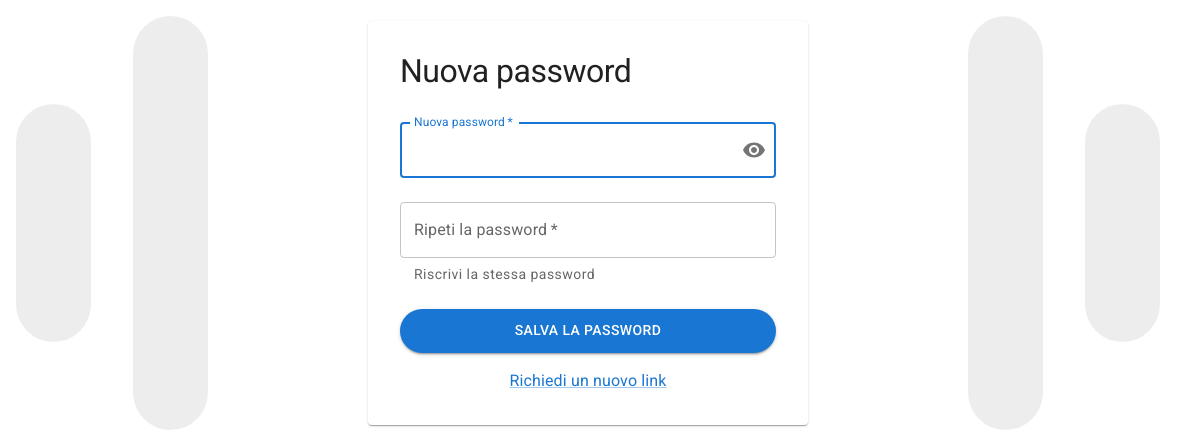
Scenario: ResetPassword: conferma con riga riservata › l'occhio è nel primo campo: clic e Tab non sono un'uscita dal gruppo, e mostra entrambi i campi
Type "Nuova!Pass2026" into the password field labelled "Nuova password *" at [563, 150], box left=400, top=122, right=726, bottom=178
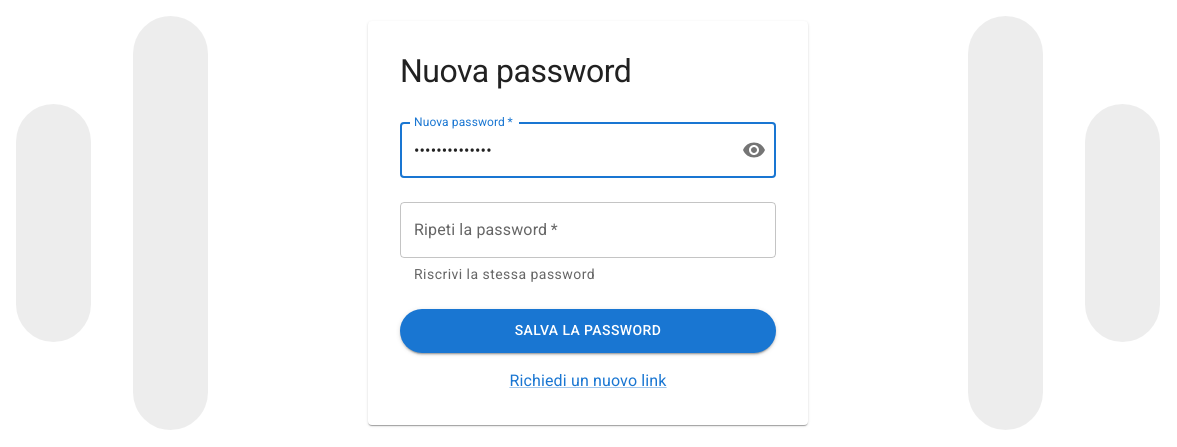
Type "Nuova!Pass" into the password field labelled "Ripeti la password *" at [588, 230], box left=400, top=202, right=776, bottom=258
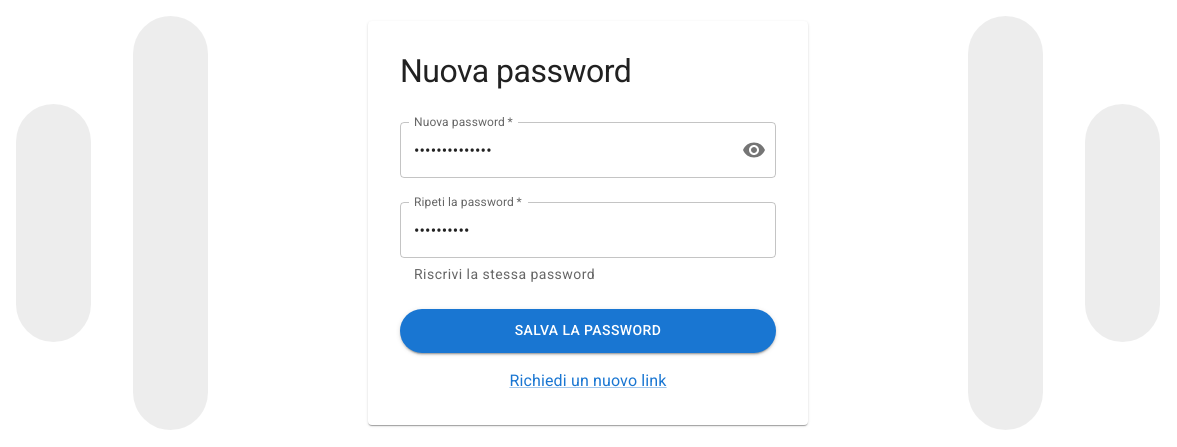
Expected: the text "Riscrivi la stessa password" is shown, left=414, top=266, right=595, bottom=282
Press the mouse on the button named "Mostra o nascondi la password" at [754, 150], box left=734, top=130, right=774, bottom=170
Click the button named "Mostra o nascondi la password" at [754, 150], box left=734, top=130, right=774, bottom=170
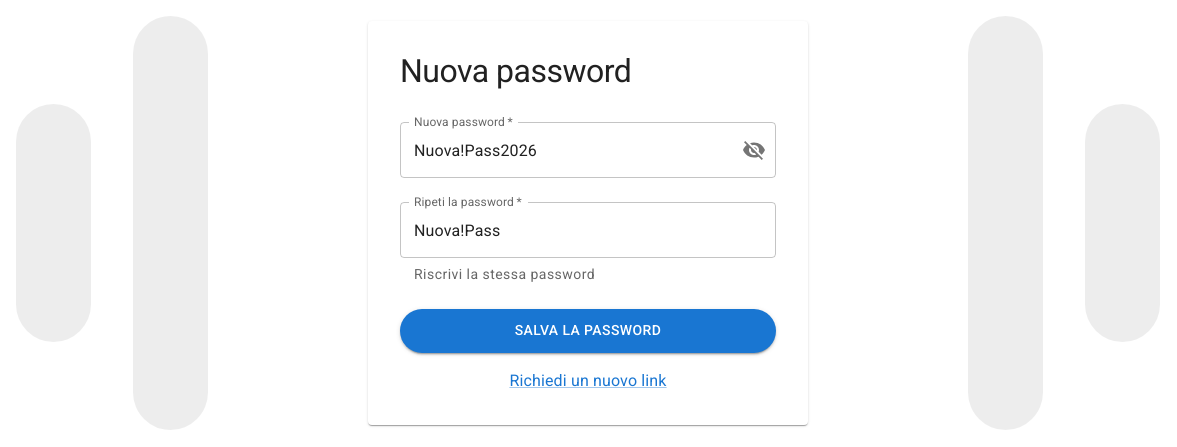
Expected: the text "Riscrivi la stessa password" is shown, left=414, top=266, right=595, bottom=282
Result: the field labelled "Ripeti la password *" shows its text at left=400, top=202, right=776, bottom=258
Leave the button named "Mostra o nascondi la password", box left=734, top=130, right=774, bottom=170
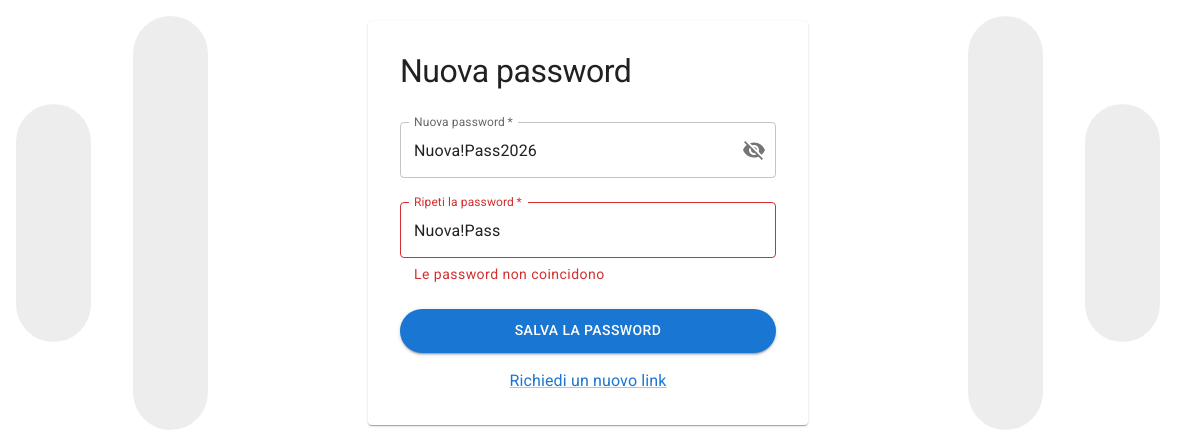
Result: the text "Le password non coincidono" is shown at left=414, top=266, right=605, bottom=282
